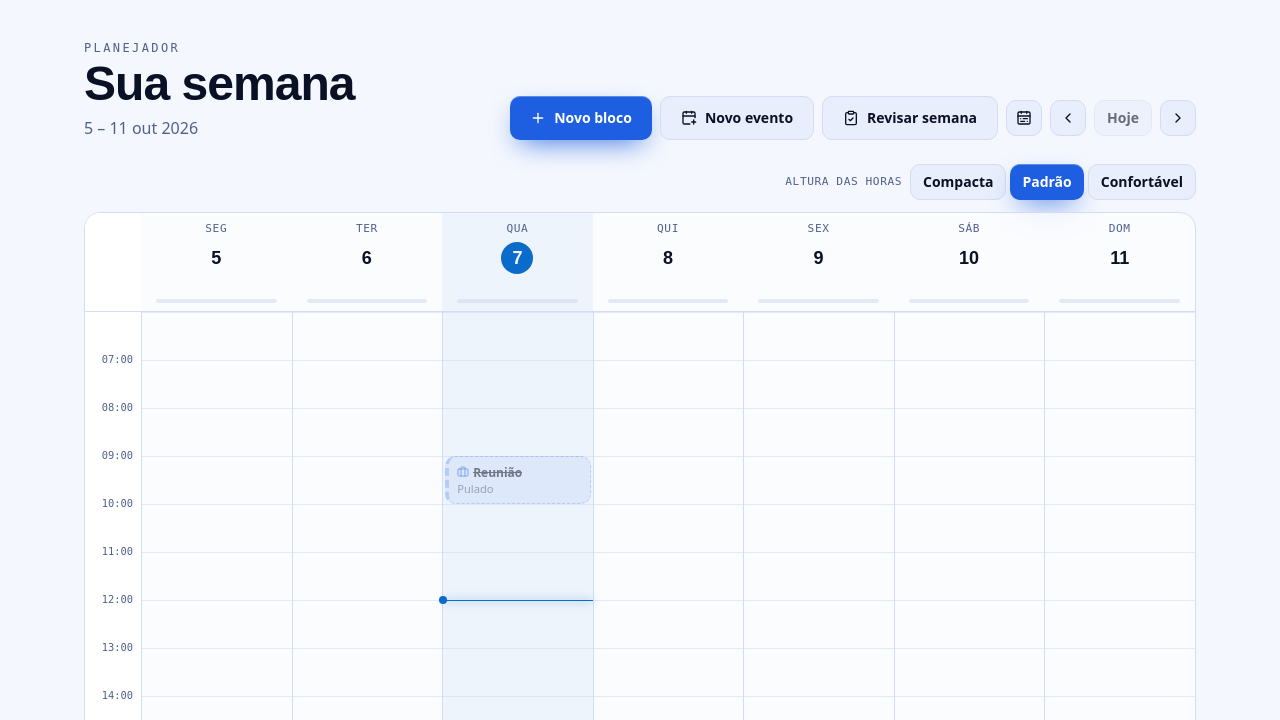
Test case: WeekPage: arrastar e soltar na grade (RF18) › ocorrência pulada não se arrasta: continua sendo só um clique
The image size is (1280, 720).
Press the mouse on the button "Reunião Pulado" at (518, 480), box [445,456,591,504]
Click the button "Reunião Pulado".
click(518, 480)  # box [445,456,591,504]
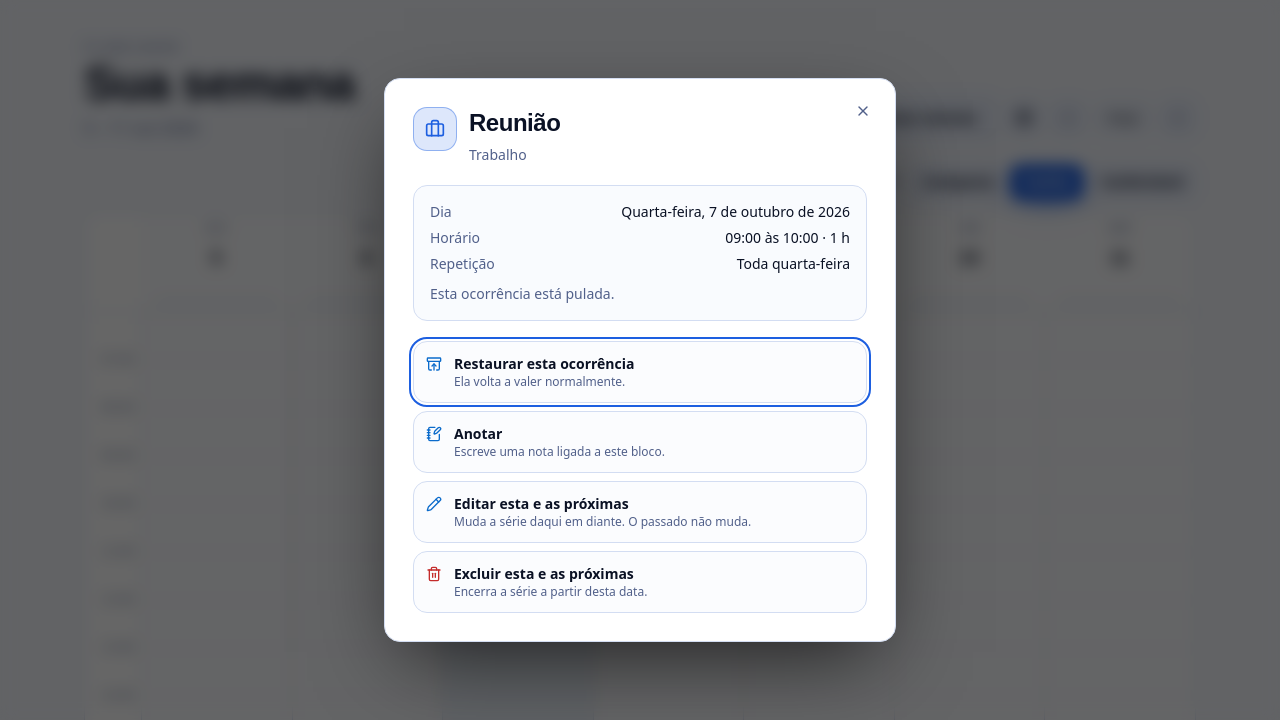
Expected: the dialog is shown, [384,78,896,642]
